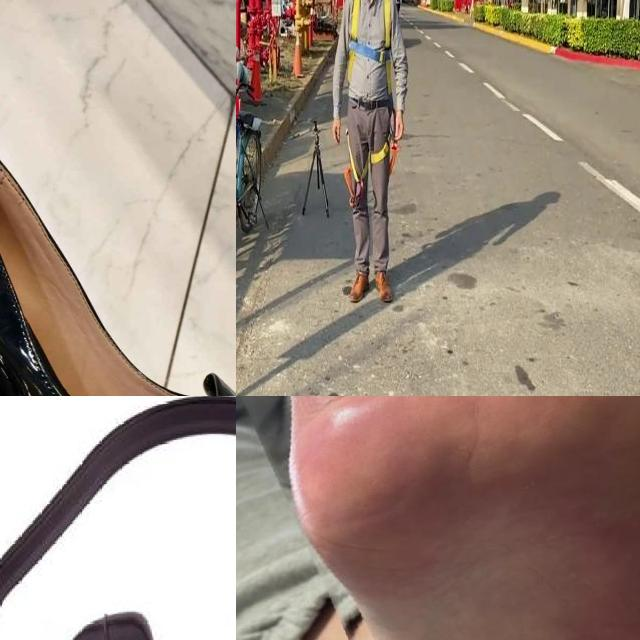Barefoots: (236, 396, 640, 640)
Ear-protection: (0, 396, 236, 640)
Harness: (348, 0, 393, 94), (344, 132, 399, 208)
Sandals: (0, 60, 236, 396)
